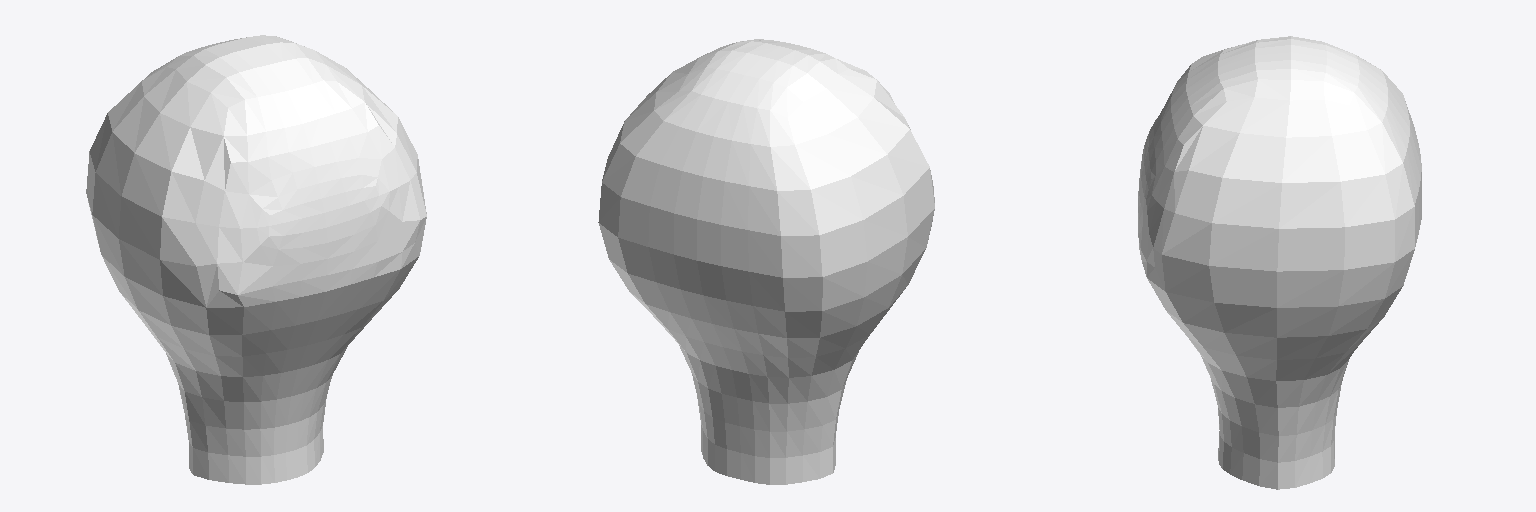
3 views of the same model, side by side, from view 1: azimuth 30°, elevation 25°; view 2: azimuth 150°, elevation 25°; view 3: azimuth 270°, elevation 25° (orthographic).
Parts seen in each view (by area): view 1: pasted__pCube28 group; view 2: pasted__pCube28 group; view 3: pasted__pCube28 group.
Part boxes in pixels (x1,y1,x2,y2): pasted__pCube28 group: (86, 35, 426, 484); pasted__pCube28 group: (598, 39, 934, 484); pasted__pCube28 group: (1138, 36, 1421, 489).
Size of the model in its own units: 5.13 by 7.2 by 4.56.
Materials: 1 (1 with a texture image).